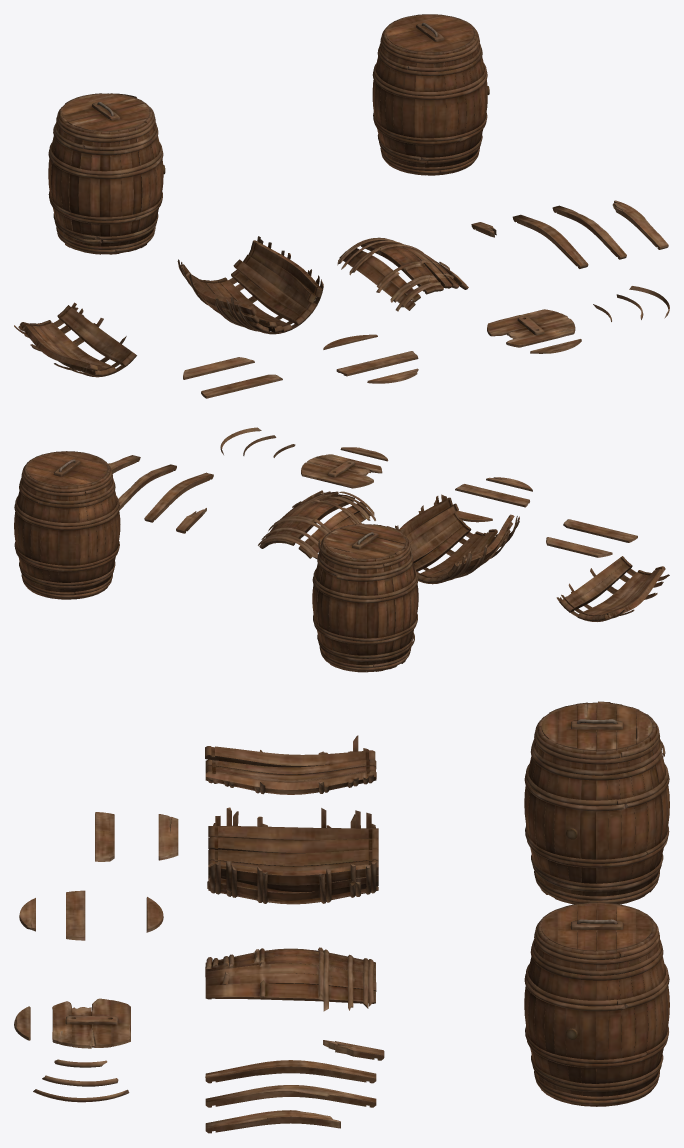
File: wooden_barrels_01.glb
3 renders of one model, top to bottom at view 1: azimuth 30°, elevation 25°; view 2: azimuth 150°, elevation 25°; view 3: azimuth 270°, elevation 25°, orthographic. The views are drawn at different scales.
Parts seen in each view (by area): view 1: wooden_barrels_01_barrel02, wooden_barrels_01_barrel01, wooden_barrels_01_piece01, wooden_barrels_01_piece03, wooden_barrels_01_piece02, wooden_barrels_01_piece08, wooden_barrels_01_piece04, wooden_barrels_01_piece05, wooden_barrels_01_piece06, wooden_barrels_01_piece11, wooden_barrels_01_piece14, wooden_barrels_01_piece13; view 2: wooden_barrels_01_barrel02, wooden_barrels_01_barrel01, wooden_barrels_01_piece01, wooden_barrels_01_piece03, wooden_barrels_01_piece02, wooden_barrels_01_piece08, wooden_barrels_01_piece04, wooden_barrels_01_piece14, wooden_barrels_01_piece11, wooden_barrels_01_piece05, wooden_barrels_01_piece13; view 3: wooden_barrels_01_barrel01, wooden_barrels_01_barrel02, wooden_barrels_01_piece01, wooden_barrels_01_piece03, wooden_barrels_01_piece02, wooden_barrels_01_piece08, wooden_barrels_01_piece04, wooden_barrels_01_piece05, wooden_barrels_01_piece06, wooden_barrels_01_piece11, wooden_barrels_01_piece14, wooden_barrels_01_piece13 (+1 smaller).
Part boxes in pixels (box(x1,y1,x2,y2)): wooden_barrels_01_barrel02: box(48, 93, 165, 254); wooden_barrels_01_barrel01: box(372, 14, 489, 175); wooden_barrels_01_piece01: box(177, 236, 323, 334); wooden_barrels_01_piece03: box(337, 237, 468, 311); wooden_barrels_01_piece02: box(14, 302, 136, 377); wooden_barrels_01_piece08: box(487, 309, 575, 347); wooden_barrels_01_piece04: box(512, 214, 588, 268); wooden_barrels_01_piece05: box(552, 205, 626, 259); wooden_barrels_01_piece06: box(612, 200, 668, 249); wooden_barrels_01_piece11: box(336, 351, 418, 376); wooden_barrels_01_piece14: box(201, 374, 282, 398); wooden_barrels_01_piece13: box(183, 357, 254, 379); wooden_barrels_01_barrel02: box(312, 523, 418, 672); wooden_barrels_01_barrel01: box(14, 451, 120, 599); wooden_barrels_01_piece01: box(395, 494, 519, 584); wooden_barrels_01_piece03: box(258, 490, 375, 558); wooden_barrels_01_piece02: box(556, 556, 669, 621); wooden_barrels_01_piece08: box(301, 454, 382, 488); wooden_barrels_01_piece04: box(144, 472, 213, 522); wooden_barrels_01_piece14: box(563, 519, 637, 542); wooden_barrels_01_piece11: box(455, 484, 529, 507); wooden_barrels_01_piece05: box(118, 464, 176, 510); wooden_barrels_01_piece13: box(546, 537, 612, 557); wooden_barrels_01_barrel01: box(524, 902, 669, 1106); wooden_barrels_01_barrel02: box(524, 701, 669, 904); wooden_barrels_01_piece01: box(207, 807, 378, 904); wooden_barrels_01_piece03: box(205, 947, 376, 1011); wooden_barrels_01_piece02: box(205, 735, 376, 794); wooden_barrels_01_piece08: box(52, 998, 130, 1048); wooden_barrels_01_piece04: box(205, 1060, 376, 1083); wooden_barrels_01_piece05: box(205, 1085, 376, 1107); wooden_barrels_01_piece06: box(205, 1110, 340, 1133); wooden_barrels_01_piece11: box(66, 890, 85, 940); wooden_barrels_01_piece14: box(95, 812, 114, 861); wooden_barrels_01_piece13: box(158, 814, 178, 860).
Size of the model in its own units: 4.44 by 0.9567 by 3.34.
Materials: 3 (3 with a texture image).
